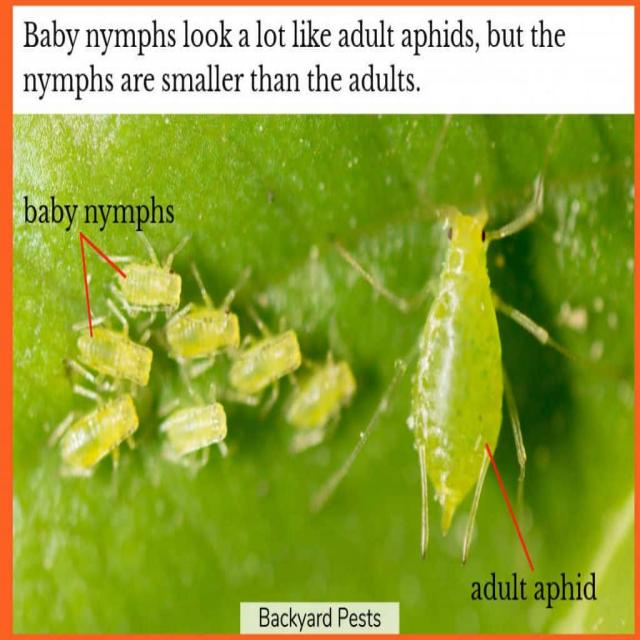Aphid-Grown-: (378, 163, 566, 561), (49, 390, 154, 482), (102, 231, 200, 324), (66, 308, 162, 394), (157, 290, 255, 368), (222, 322, 309, 408)
